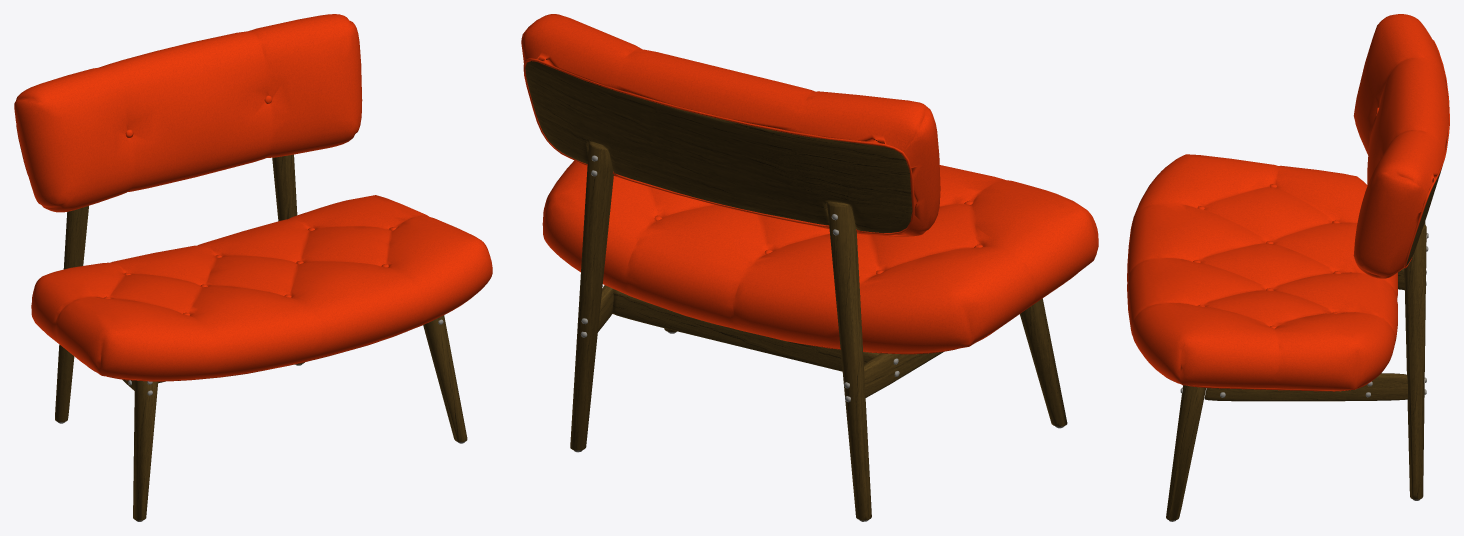
Rendered from chair.glb.
The picture shows the model from 3 angles, left to right: view 1: azimuth 30°, elevation 25°; view 2: azimuth 150°, elevation 25°; view 3: azimuth 270°, elevation 25°; orthographic projection. The views are drawn at different scales.
Parts seen in each view (by area): view 1: SheenChair_fabric, SheenChair_wood; view 2: SheenChair_fabric, SheenChair_wood; view 3: SheenChair_fabric, SheenChair_wood.
Part boxes in pixels (left/top/right/bottom): SheenChair_fabric: left=14, top=14, right=492, bottom=381; SheenChair_wood: left=55, top=154, right=467, bottom=520; SheenChair_fabric: left=521, top=14, right=1098, bottom=354; SheenChair_wood: left=525, top=61, right=1067, bottom=520; SheenChair_fabric: left=1127, top=14, right=1449, bottom=391; SheenChair_wood: left=1166, top=168, right=1441, bottom=520.
Size of the model in its own units: 2 by 1.66 by 1.38.
4 materials, 3 textured.
